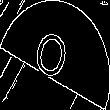O_SW: (33, 22, 77, 88)
